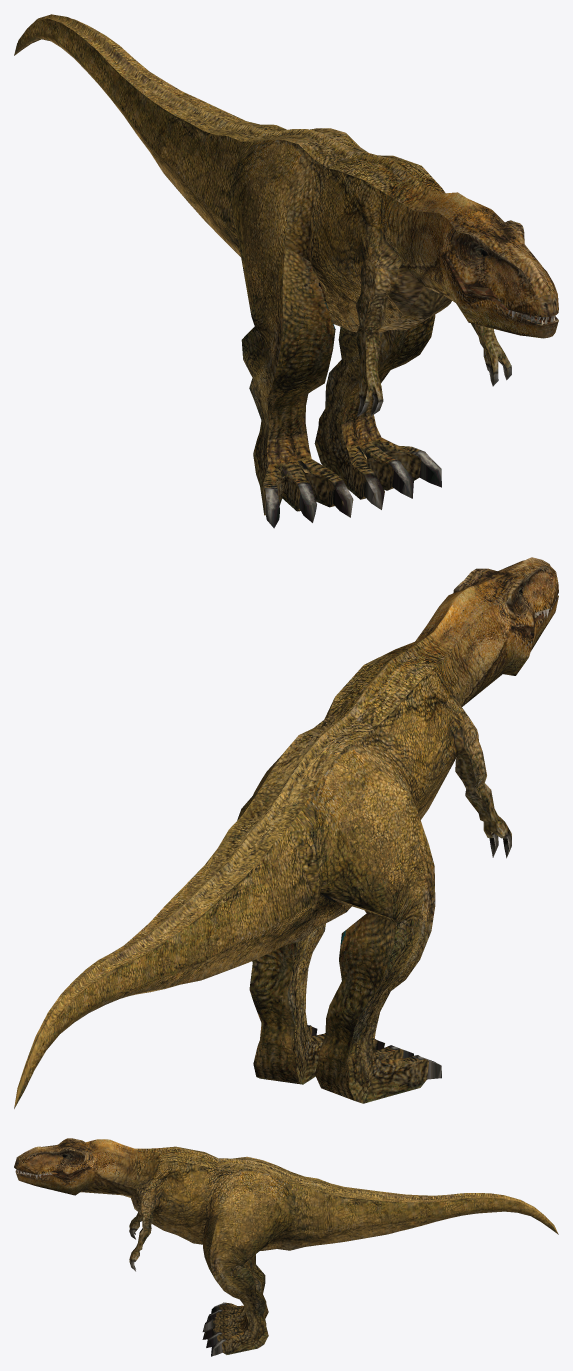
The model's file is dino.obj.
3 views of the same model, one above another, from view 1: azimuth 30°, elevation 25°; view 2: azimuth 150°, elevation 25°; view 3: azimuth 270°, elevation 25° (orthographic). The views are drawn at different scales.
Parts seen in each view (by area): view 1: TMD_object_#0,_VRAM_page_#12, TMD_object_#0,_VRAM_page_#10, TMD_object_#0,_VRAM_page_#30, TMD_object_#0,_VRAM_page_#14, TMD_object_#0,_VRAM_page_#28, TMD_object_#0,_VRAM_page_#26; view 2: TMD_object_#0,_VRAM_page_#14, TMD_object_#0,_VRAM_page_#12, TMD_object_#0,_VRAM_page_#28, TMD_object_#0,_VRAM_page_#10, TMD_object_#0,_VRAM_page_#30, TMD_object_#0,_VRAM_page_#26; view 3: TMD_object_#0,_VRAM_page_#12, TMD_object_#0,_VRAM_page_#14, TMD_object_#0,_VRAM_page_#10, TMD_object_#0,_VRAM_page_#28, TMD_object_#0,_VRAM_page_#26, TMD_object_#0,_VRAM_page_#30.
Boxes of the visible parts, x1,y1,x2,y2 form: TMD_object_#0,_VRAM_page_#12: [244, 140, 511, 416]; TMD_object_#0,_VRAM_page_#10: [18, 14, 558, 464]; TMD_object_#0,_VRAM_page_#30: [14, 18, 556, 528]; TMD_object_#0,_VRAM_page_#14: [159, 112, 555, 517]; TMD_object_#0,_VRAM_page_#28: [170, 102, 555, 514]; TMD_object_#0,_VRAM_page_#26: [15, 23, 539, 337]; TMD_object_#0,_VRAM_page_#14: [130, 611, 542, 1050]; TMD_object_#0,_VRAM_page_#12: [257, 652, 469, 1084]; TMD_object_#0,_VRAM_page_#28: [170, 599, 555, 1103]; TMD_object_#0,_VRAM_page_#10: [14, 557, 558, 1108]; TMD_object_#0,_VRAM_page_#30: [14, 612, 543, 1108]; TMD_object_#0,_VRAM_page_#26: [74, 633, 450, 1022]; TMD_object_#0,_VRAM_page_#12: [129, 1160, 259, 1274]; TMD_object_#0,_VRAM_page_#14: [17, 1169, 501, 1339]; TMD_object_#0,_VRAM_page_#10: [14, 1138, 558, 1332]; TMD_object_#0,_VRAM_page_#28: [16, 1159, 382, 1354]; TMD_object_#0,_VRAM_page_#26: [80, 1146, 548, 1235]; TMD_object_#0,_VRAM_page_#30: [16, 1170, 558, 1356].
Bounding box in the file's own units: 11.79 × 25.22 × 63.28.
7 materials, 6 textured.
